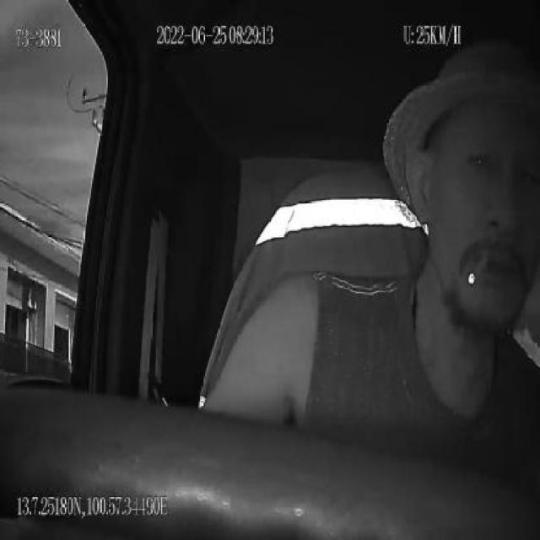smoking: (466, 247, 489, 293)
